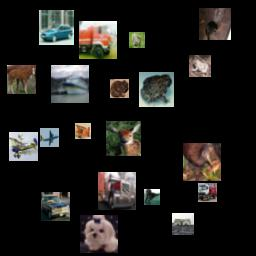airplane: (9, 132, 38, 161), (40, 128, 59, 147), (75, 123, 91, 139)
automobile: (39, 10, 74, 45), (41, 192, 70, 221)
bird: (183, 143, 221, 181)
cat: (199, 8, 231, 40)
deer: (106, 121, 141, 156)
dog: (80, 215, 118, 253), (144, 189, 160, 205)
frog: (139, 72, 174, 107), (189, 55, 211, 77), (110, 79, 129, 98), (129, 32, 145, 48)
ship: (51, 65, 89, 103)
truck: (98, 172, 136, 210), (79, 21, 117, 59), (172, 213, 194, 235), (198, 183, 217, 202)
